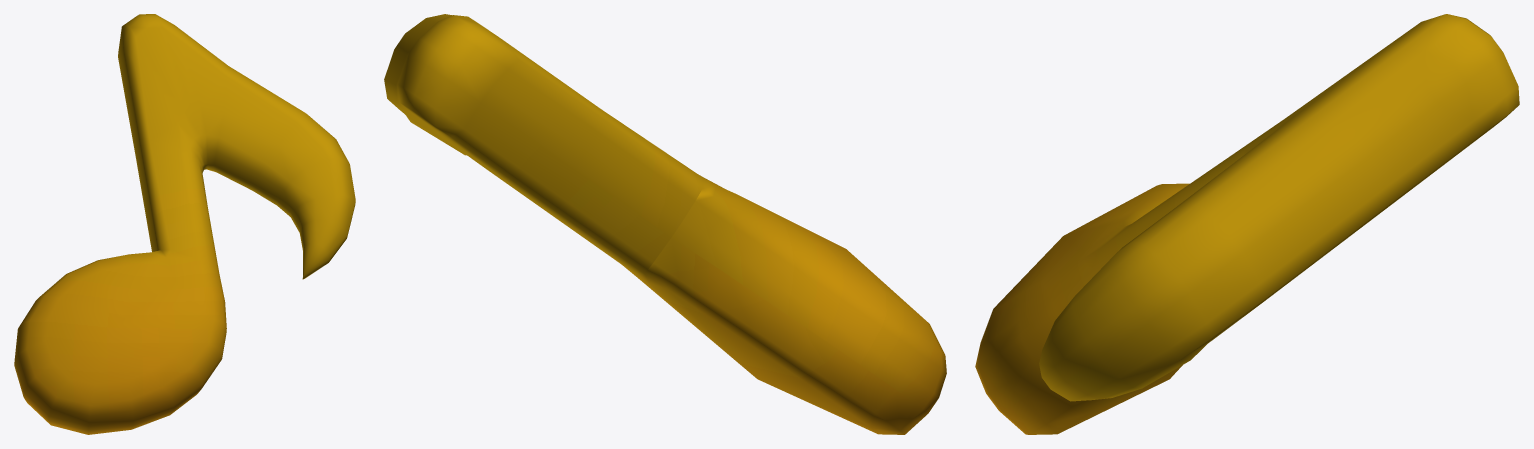
Rendered from note.glb.
3 renders of one model, left to right at view 1: azimuth 30°, elevation 25°; view 2: azimuth 150°, elevation 25°; view 3: azimuth 270°, elevation 25°, orthographic. The views are drawn at different scales.
Size of the model in its own units: 3.41 by 2.92 by 2.77.
Materials: 1 (1 with a texture image).
